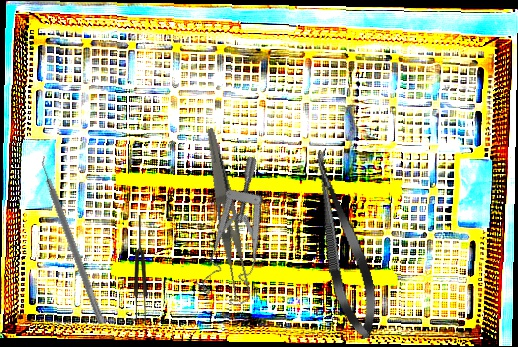Dressing Forceps: (188, 127, 259, 300)
Micro Scissor: (300, 145, 386, 343)
Spatula Surgical: (34, 154, 113, 325)
Speculum: (171, 155, 316, 315)
Tissue Forceps: (134, 215, 147, 321)
